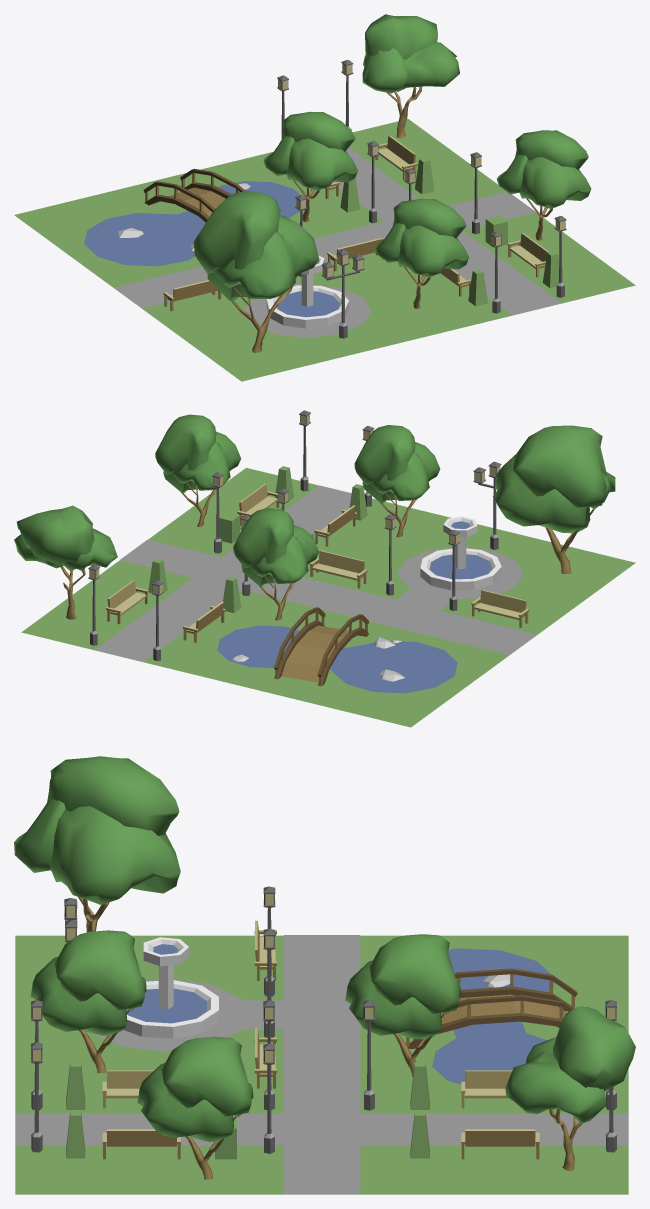
The model's file is park4-transformed.glb.
The picture shows the model from 3 angles, top to bottom: view 1: azimuth 30°, elevation 25°; view 2: azimuth 150°, elevation 25°; view 3: azimuth 270°, elevation 25°; orthographic projection. The views are drawn at different scales.
Parts seen in each view (by area): view 1: park.021; view 2: park.021; view 3: park.021.
Part boxes in pixels (left/top/right/bottom): park.021: left=14, top=14, right=635, bottom=381; park.021: left=14, top=410, right=635, bottom=727; park.021: left=14, top=756, right=635, bottom=1194.
Bounding box in the file's own units: 17.32 × 6.33 × 16.23.
1 material, 1 textured.
